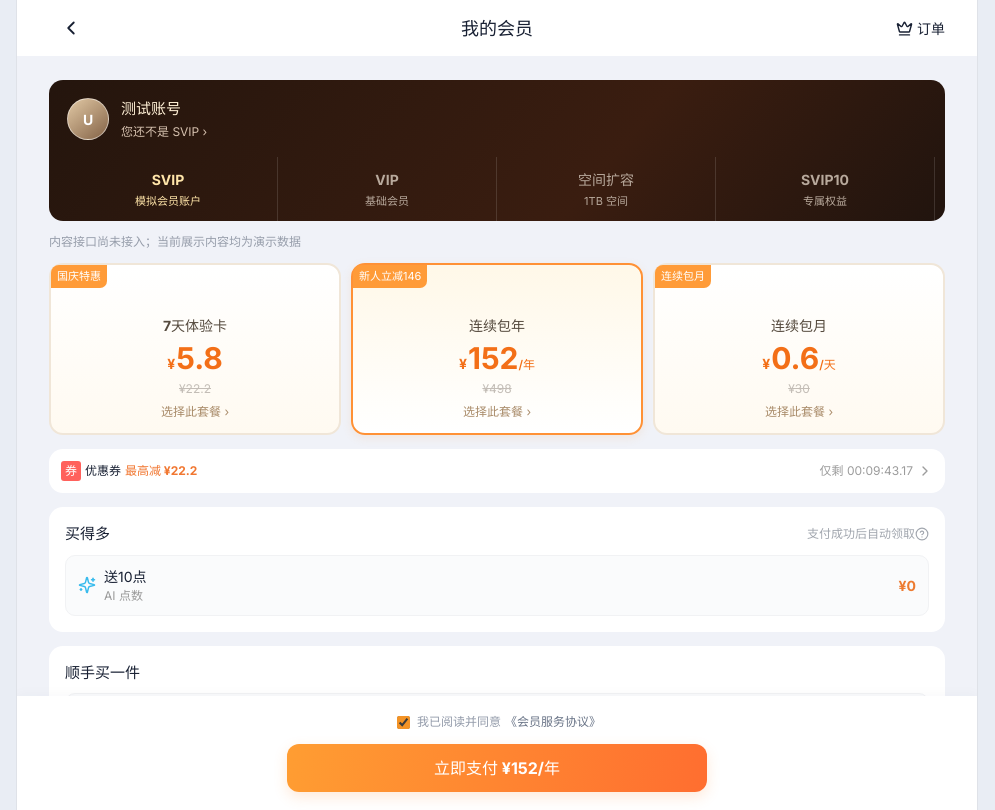
Scenario: pays immediately for selected plan and only shows success
Click the button "国庆特惠 7天体验卡 ¥5.8 ¥22.2 选择此套餐 ›" at (195, 349), box x1=49 y1=263 x2=341 y2=435
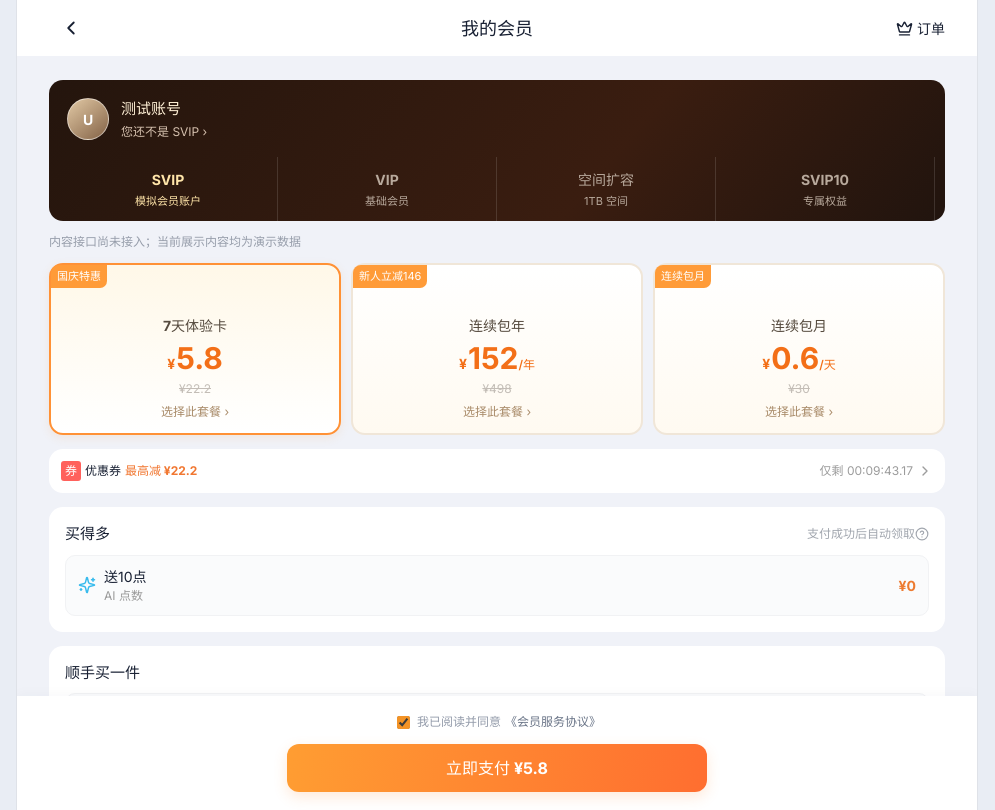
Click the button "立即支付 ¥5.8" at (497, 768), box x1=287 y1=744 x2=707 y2=792
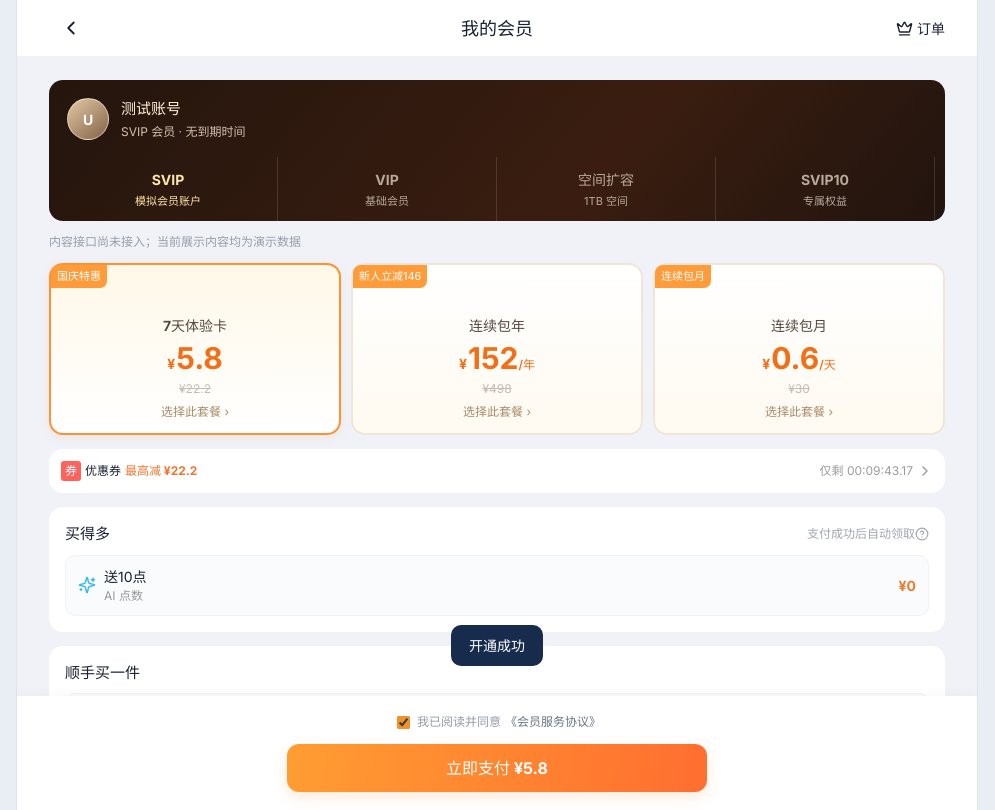
Expected: the text "SVIP" is shown, x1=152 y1=168 x2=184 y2=190
Expected: the message "开通成功" is shown, x1=451 y1=625 x2=543 y2=666
